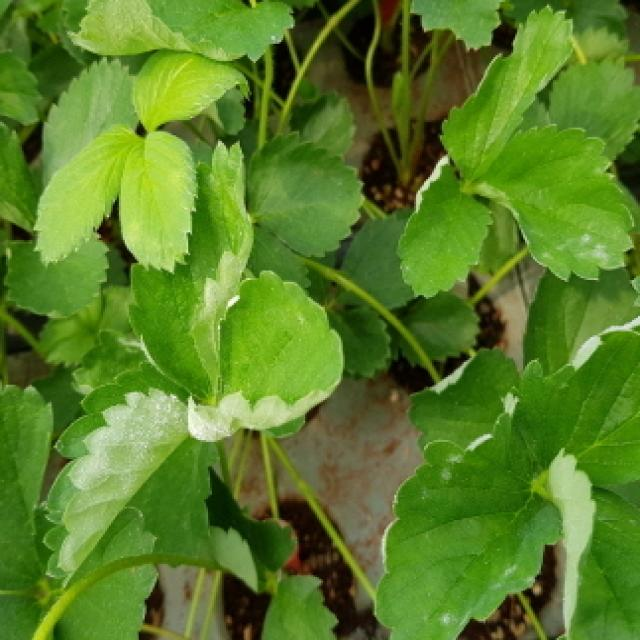Powdery Mildew Leaf: (374, 375, 559, 640), (125, 138, 255, 405), (40, 360, 190, 589), (188, 270, 346, 443), (470, 123, 636, 283), (438, 3, 574, 184), (520, 314, 640, 486), (546, 445, 640, 640), (396, 152, 495, 299)
